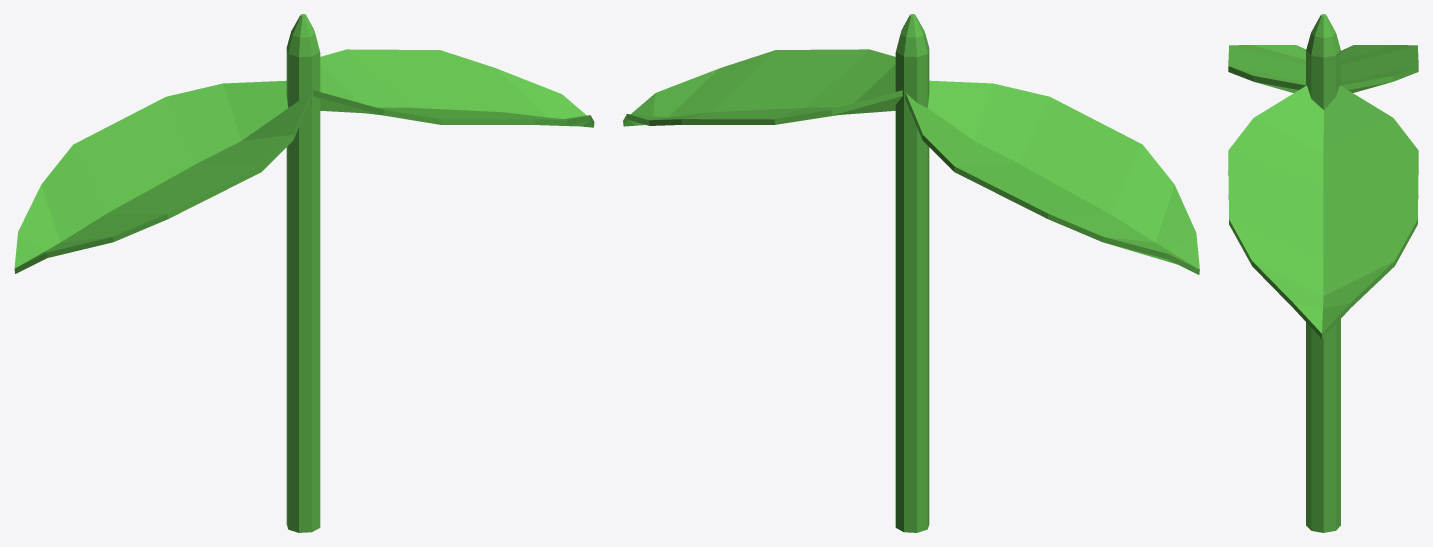
File: watermelon_seedling.fbx
3 renders of one model, left to right at view 1: azimuth 30°, elevation 25°; view 2: azimuth 150°, elevation 25°; view 3: azimuth 270°, elevation 25°, orthographic.
Visible parts, largest first — view 1: watermelon_seedling; view 2: watermelon_seedling; view 3: watermelon_seedling.
Boxes of the visible parts, left/top/right/bottom form: watermelon_seedling: left=14, top=14, right=594, bottom=532; watermelon_seedling: left=623, top=14, right=1199, bottom=532; watermelon_seedling: left=1228, top=14, right=1418, bottom=532.
Size of the model in its own units: 38.75 by 32.69 by 11.06.
